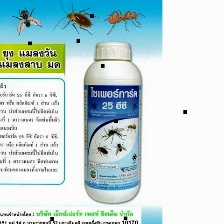insecticide: (80, 39, 145, 205)
